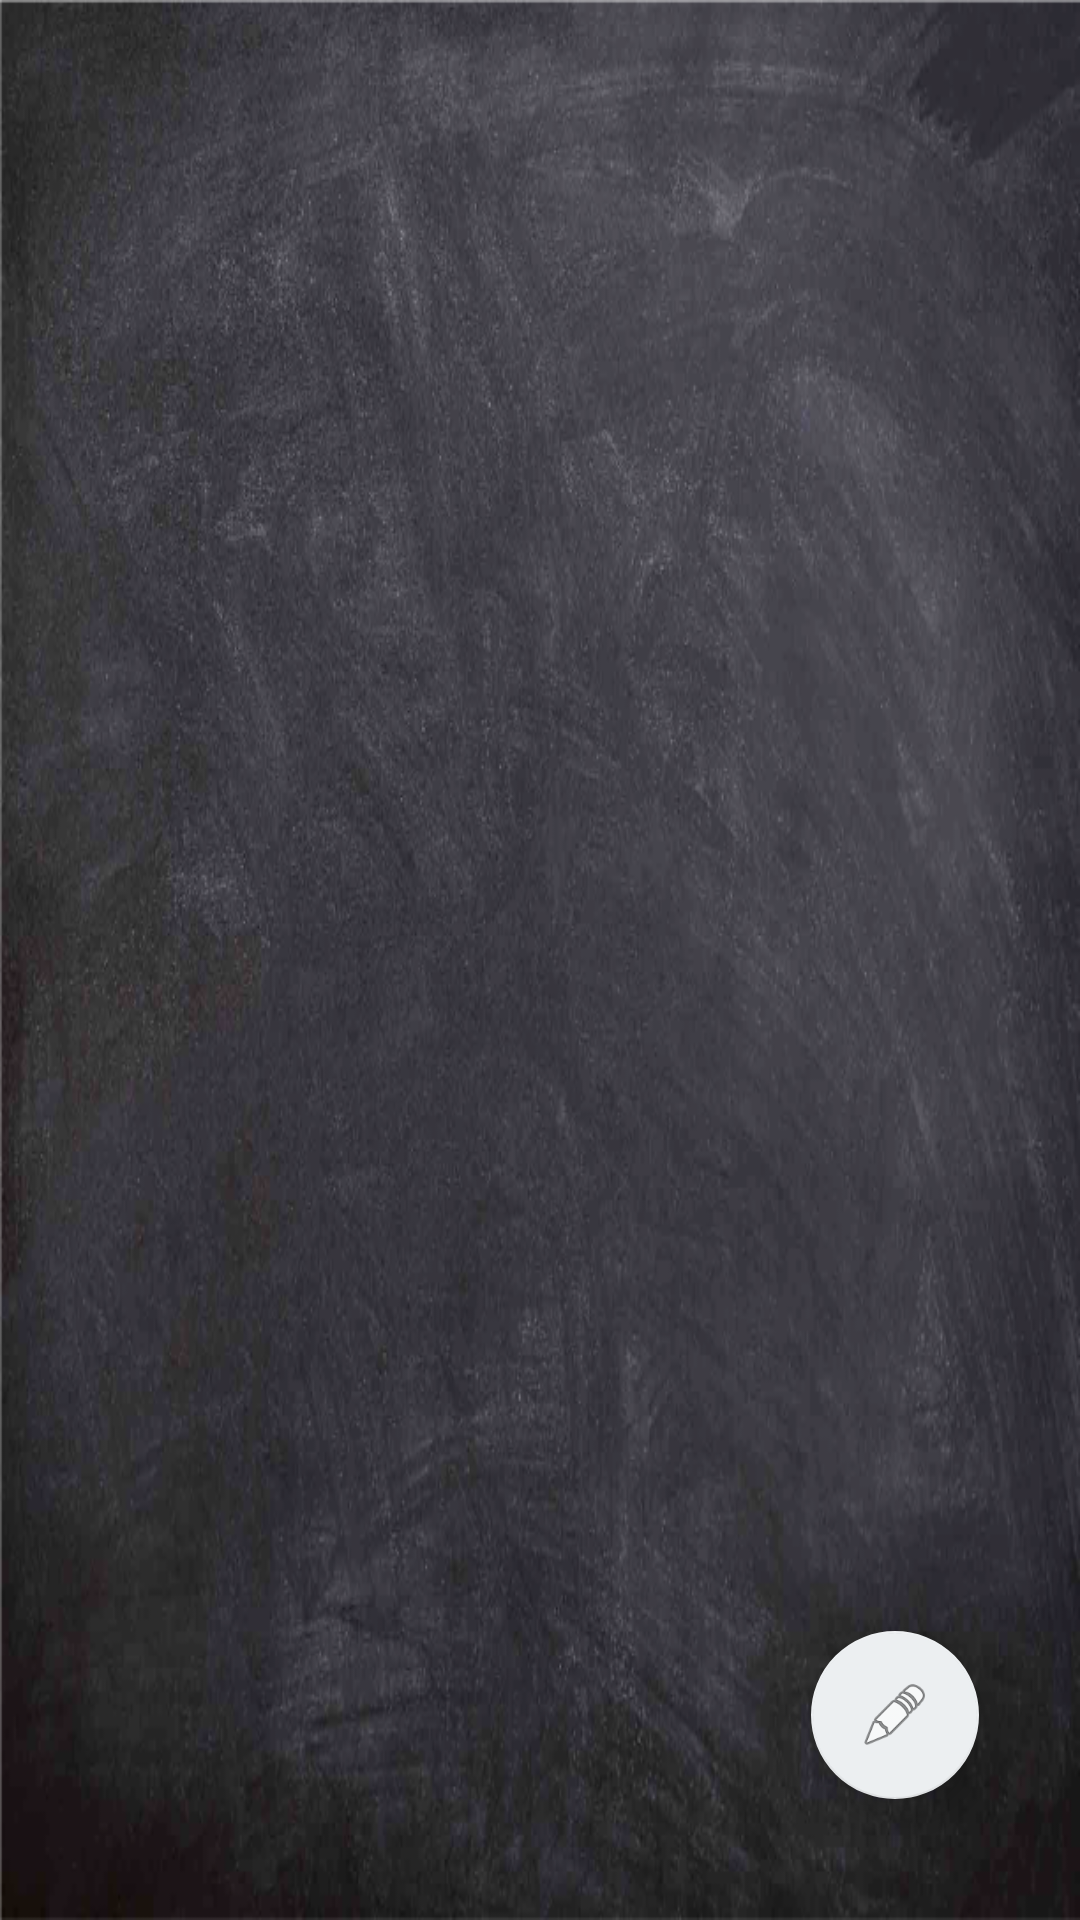

Icons on this 1080px×1920px Android screen, each with the point to tap as [x,y]:
edit: [895,1715]
